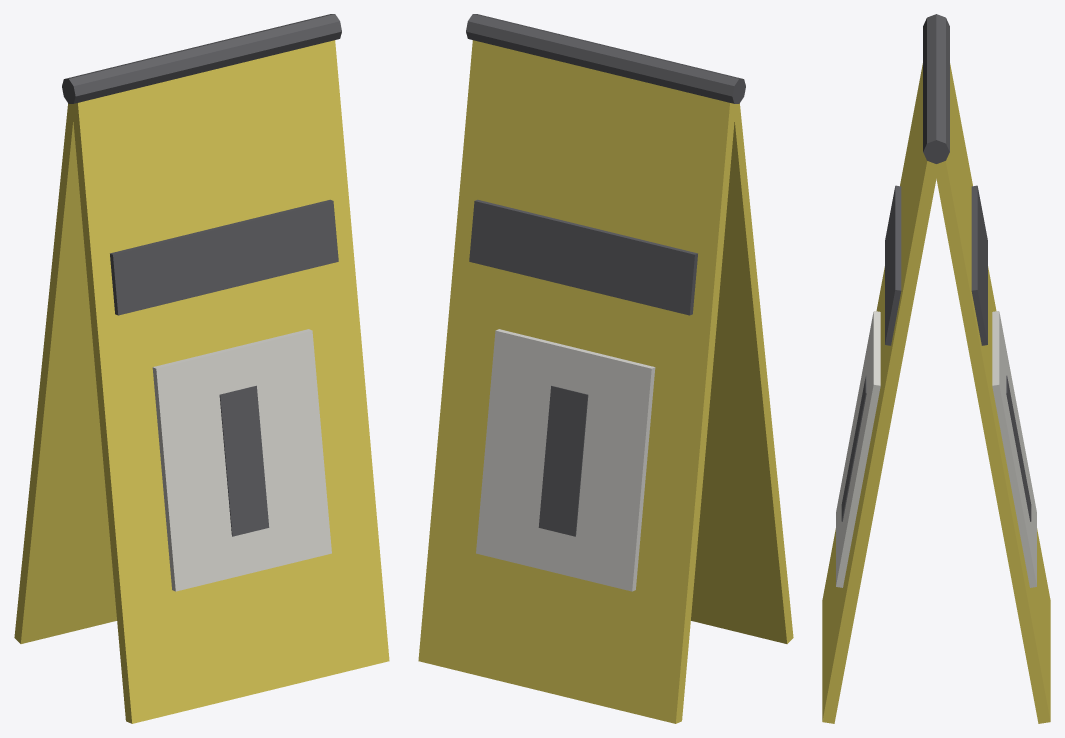
The model's file is wetfloor.glb.
3 views of the same model, side by side, from view 1: azimuth 30°, elevation 25°; view 2: azimuth 150°, elevation 25°; view 3: azimuth 270°, elevation 25° (orthographic). The views are drawn at different scales.
Visible parts, largest first — view 1: NC_wetfloor; view 2: NC_wetfloor; view 3: NC_wetfloor.
Part boxes in pixels (x1,y1,x2,y2): NC_wetfloor: (14,14,389,723); NC_wetfloor: (418,14,793,723); NC_wetfloor: (822,14,1050,723).
Size of the model in its own units: 0.29 by 0.629 by 0.222.
